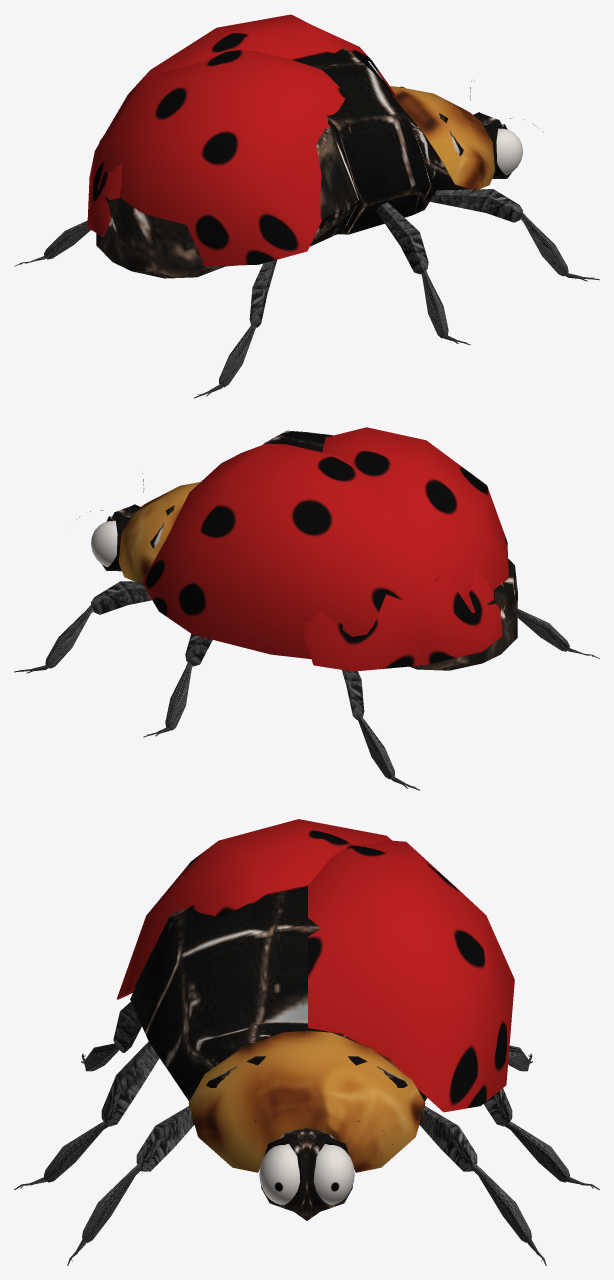
File: LadyBird Beetle.FBX
3 views of the same model, one above another, from view 1: azimuth 30°, elevation 25°; view 2: azimuth 150°, elevation 25°; view 3: azimuth 270°, elevation 25° (orthographic). The views are drawn at different scales.
Parts seen in each view (by area): view 1: Sphere02, 对象07, Sphere01, Sphere03, Box01, Box14, Sphere08, Box04, Box02, Box15, Box03, Box08; view 2: Sphere01, Sphere02, 对象07, Sphere03, Box12, Sphere07, Box11, Box16, Box08, Box03, Box07, Box17; view 3: Sphere01, 对象07, Sphere03, Sphere02, Box14, Sphere07, Sphere08, Box01, Box12, Box11, Box02, Box16 (+4 smaller).
Part boxes in pixels (x1,y1,x2,y2): Sphere02: (97, 50, 347, 266); 对象07: (96, 48, 511, 278); Sphere01: (87, 14, 396, 236); Sphere03: (390, 86, 495, 189); Box01: (430, 189, 522, 222); Box14: (376, 202, 428, 273); Sphere08: (496, 128, 522, 174); Box04: (249, 260, 276, 327); Box02: (520, 212, 568, 276); Box15: (421, 270, 448, 338); Box03: (219, 325, 256, 387); Box08: (44, 220, 90, 259); Sphere01: (142, 443, 502, 665); Sphere02: (304, 427, 508, 671); 对象07: (102, 430, 517, 670); Sphere03: (118, 482, 200, 581); Box12: (90, 581, 151, 614); Sphere07: (91, 520, 117, 567); Box11: (45, 604, 93, 668); Box16: (165, 662, 192, 730); Box08: (357, 717, 394, 779); Box03: (517, 609, 569, 651); Box07: (342, 670, 364, 719); Box17: (185, 634, 212, 666); Sphere01: (308, 840, 514, 1112); 对象07: (130, 886, 427, 1220); Sphere03: (188, 1030, 425, 1172); Sphere02: (117, 819, 391, 999); Box14: (101, 1041, 159, 1126); Sphere07: (313, 1143, 354, 1204); Sphere08: (259, 1143, 300, 1204); Box01: (136, 1106, 194, 1171); Box12: (419, 1106, 477, 1171); Box11: (471, 1163, 531, 1242); Box02: (82, 1163, 142, 1242); Box16: (504, 1121, 569, 1182).
Size of the model in its own units: 12.02 by 6.81 by 11.93.
